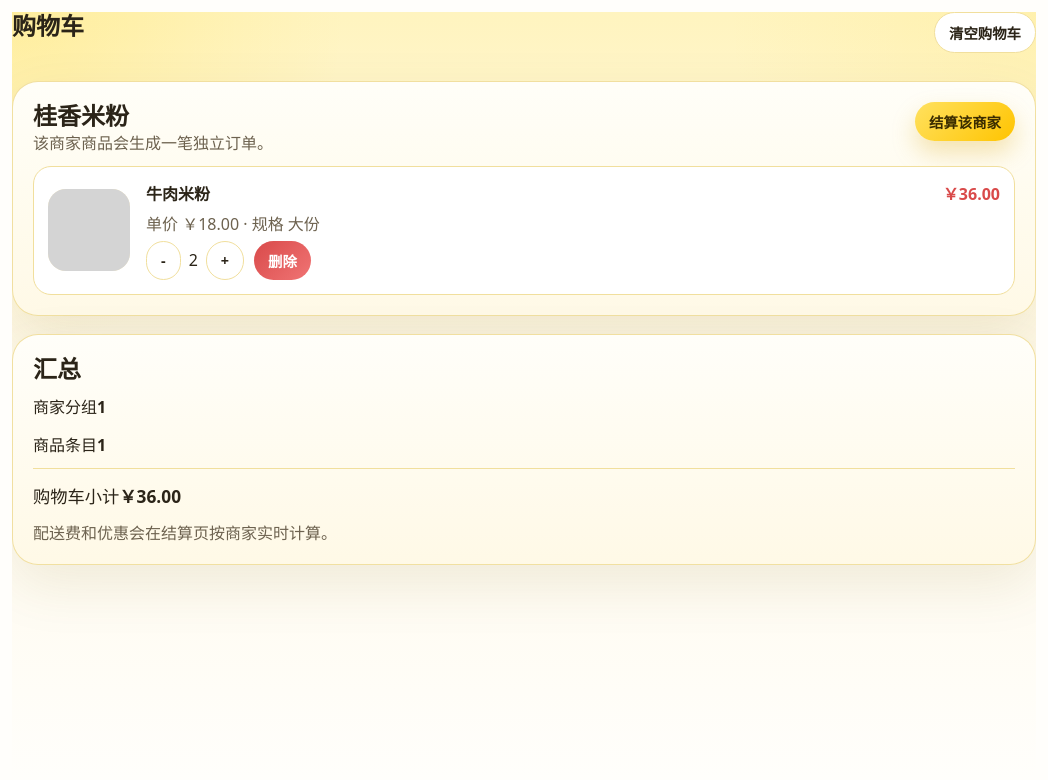
Test: Cart page › clears the cart and shows a success notice
The width and height of the screenshot is (1048, 780).
expect the text "牛肉米粉" is shown: met, box top-left (146, 181), bottom-right (210, 205)
Click the button "清空购物车" at (985, 32), box top-left (934, 12), bottom-right (1036, 53)
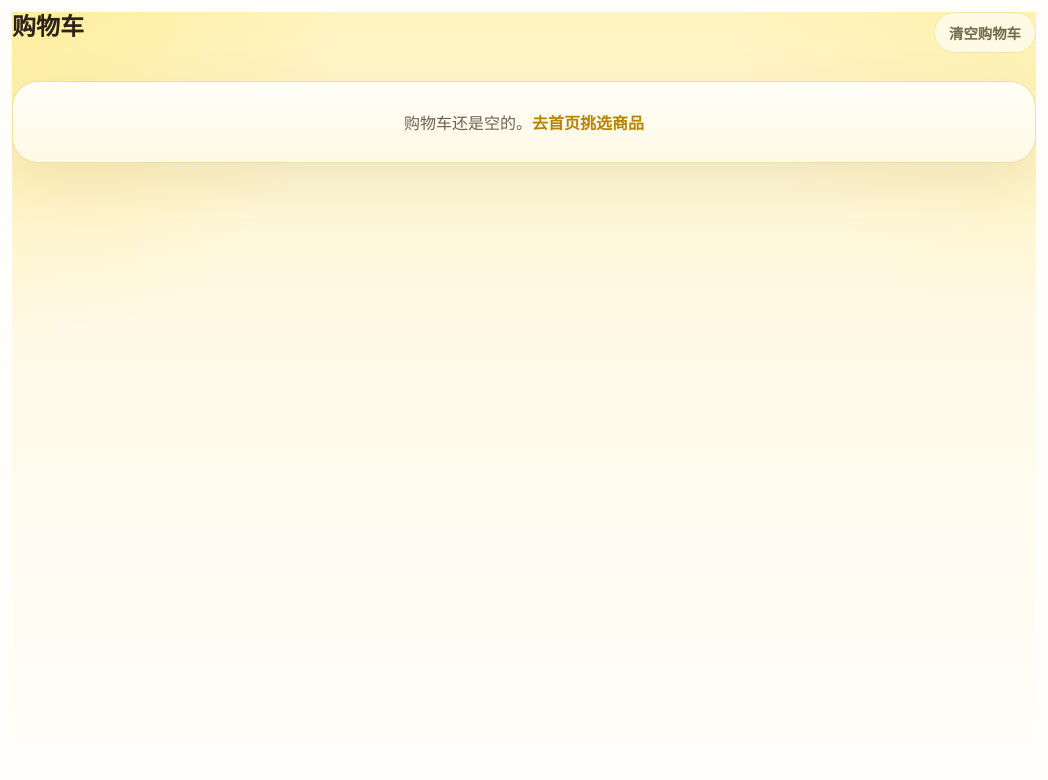
expect the text "购物车还是空的。 去首页挑选商品" is shown: met, box top-left (12, 81), bottom-right (1036, 163)
